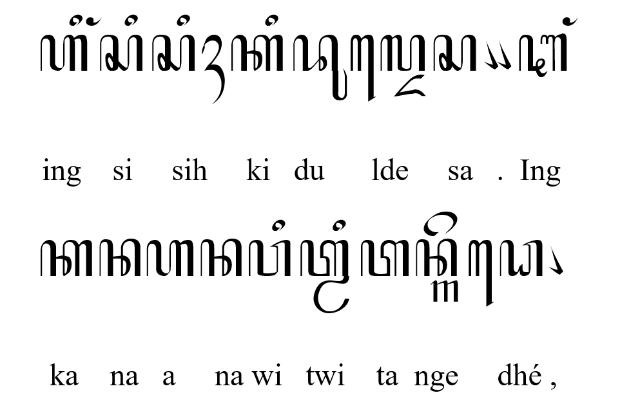I: (518, 34, 568, 78)
_d: (394, 73, 428, 97)
_h1: (200, 35, 226, 106)
dh: (498, 240, 544, 278)
du: (292, 33, 348, 101)
e: (423, 211, 457, 237)
e1: (349, 33, 376, 103), (468, 240, 494, 308)
g: (430, 281, 460, 304)
h: (146, 238, 194, 278), (40, 34, 88, 72)
i: (264, 14, 278, 27), (271, 218, 285, 231), (124, 15, 138, 27), (177, 14, 191, 26), (332, 220, 346, 232), (70, 14, 82, 26)
k: (230, 34, 284, 72), (39, 240, 93, 278)
kom: (496, 39, 512, 71), (548, 245, 564, 277), (484, 40, 498, 70)
l: (380, 34, 426, 72)
n: (98, 238, 142, 278), (200, 238, 242, 278), (414, 239, 458, 277)
ng: (86, 16, 102, 26), (562, 16, 578, 26)
s: (432, 34, 478, 72), (99, 34, 143, 72), (151, 34, 195, 72)
t: (360, 240, 410, 278)
tw: (300, 239, 350, 315)
w: (248, 240, 292, 278)
